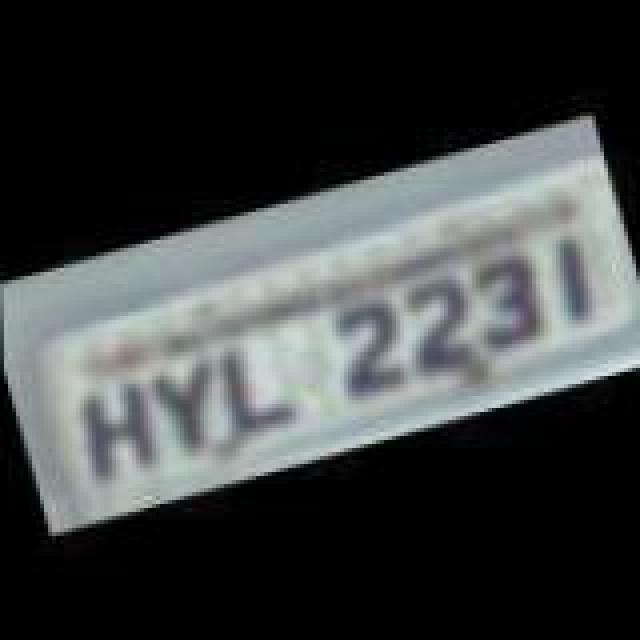1: (540, 228, 600, 324)
2: (320, 284, 416, 400), (388, 268, 484, 380)
3: (460, 244, 548, 352)
H: (70, 376, 162, 488)
L: (202, 324, 298, 440)
Y: (138, 346, 234, 462)
